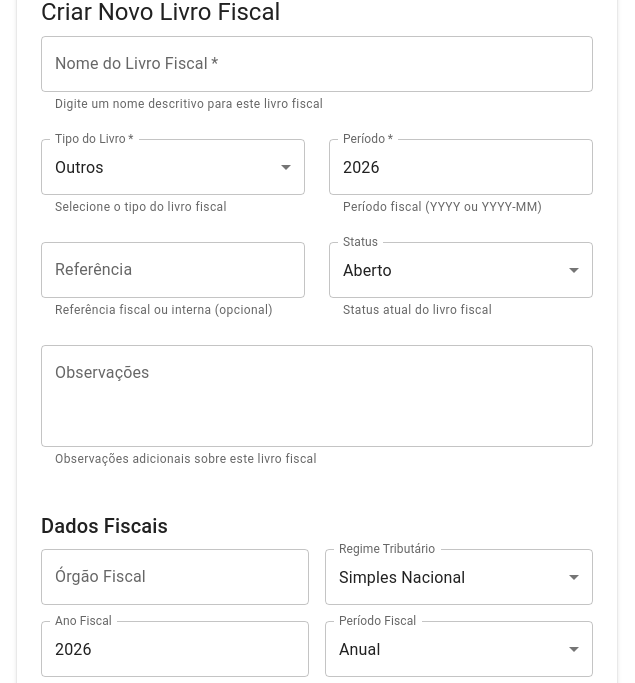
Test: FiscalBookForm › shows submit error when save fails
Type "Livro 2024" into the field with placeholder "ex: Livro de Entrada 2024" at point(317, 64), box [41, 36, 593, 92]
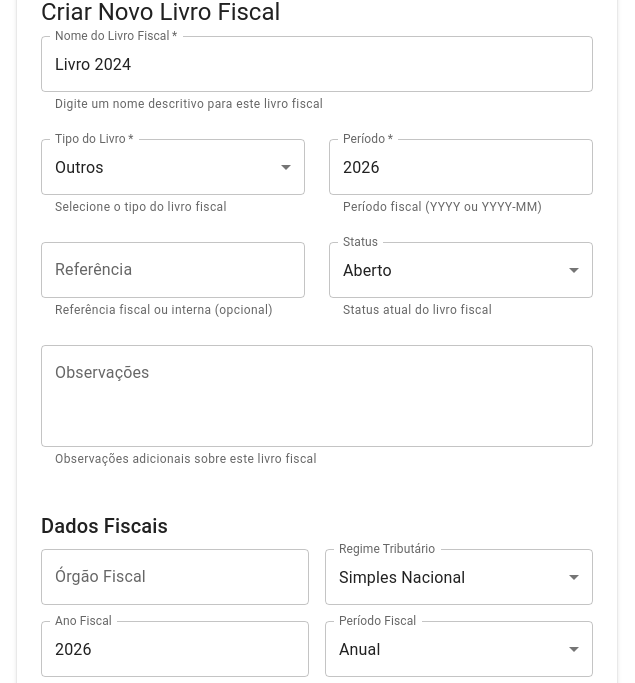
Replace the text in the field with placeholder "2024" with "2024" at point(461, 167), box [329, 139, 593, 195]
(page scrolled)
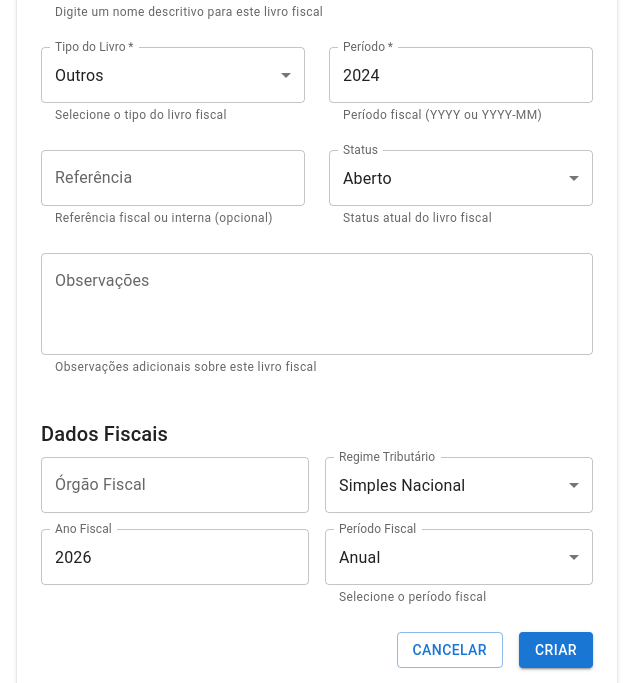
Click the button "Criar" at point(556, 650), box [519, 632, 593, 668]
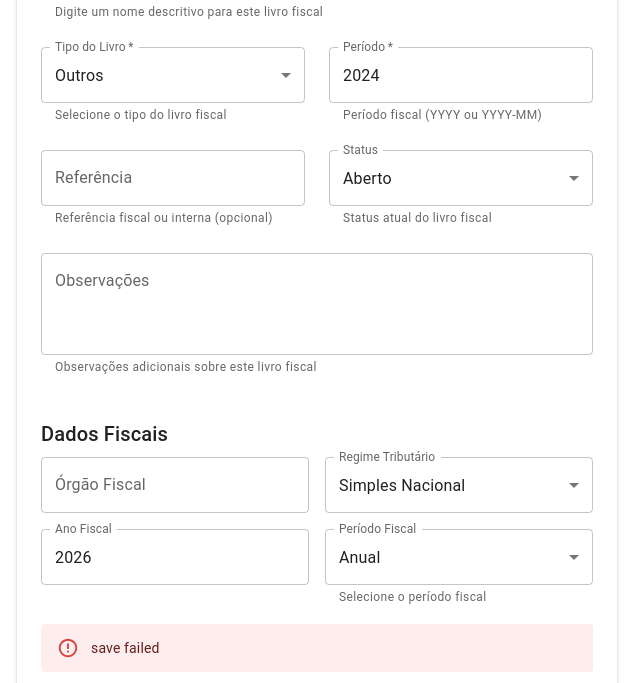
Result: the text "save failed" is shown at [91, 640, 160, 656]
